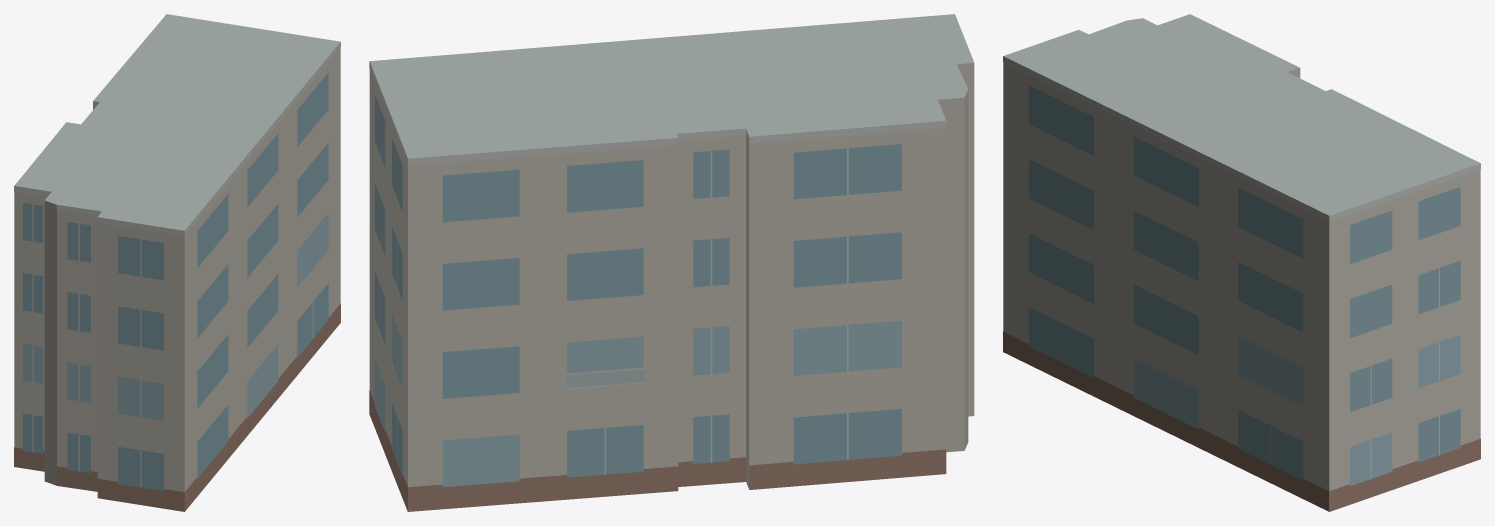
The model's file is survey-upis-32754531.glb.
The picture shows the model from 3 angles, left to right: view 1: azimuth 30°, elevation 25°; view 2: azimuth 150°, elevation 25°; view 3: azimuth 270°, elevation 25°; orthographic projection. The views are drawn at different scales.
Visible parts, largest first — view 1: survey-upis-32754531.tmp; view 2: survey-upis-32754531.tmp; view 3: survey-upis-32754531.tmp.
Part boxes in pixels (left/top/right/bottom): survey-upis-32754531.tmp: left=14, top=14, right=340, bottom=511; survey-upis-32754531.tmp: left=369, top=14, right=974, bottom=511; survey-upis-32754531.tmp: left=1003, top=14, right=1480, bottom=511.
Size of the model in its own units: 17.63 by 12.05 by 17.63.
